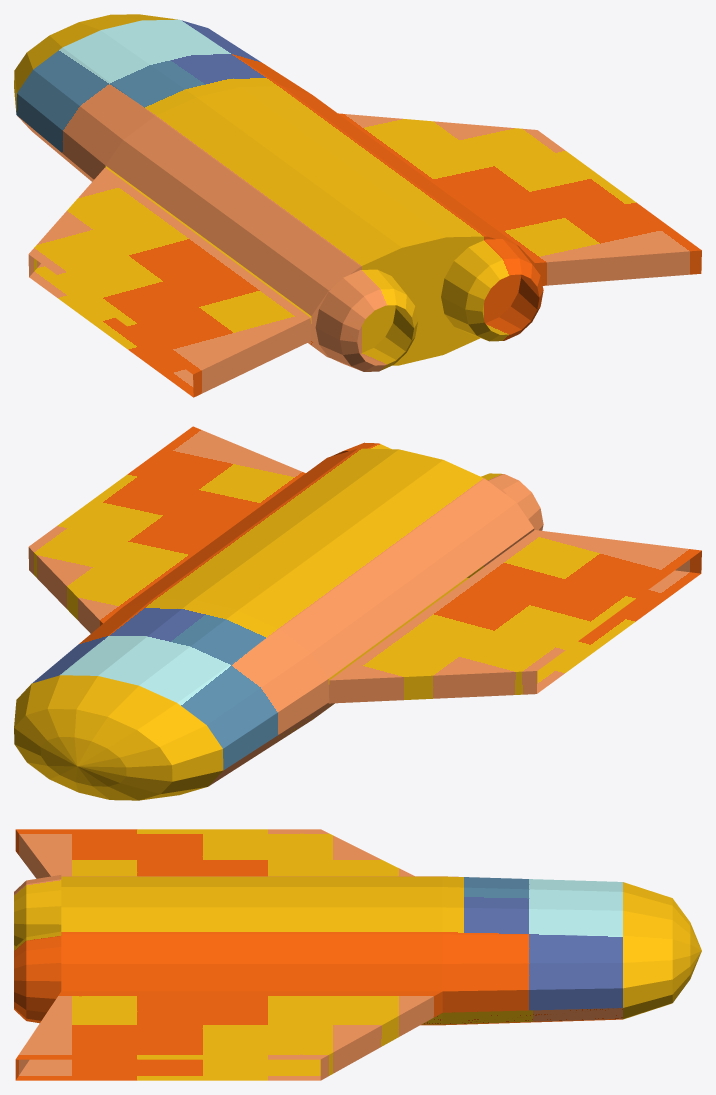
File: ship.obj
3 renders of one model, top to bottom at view 1: azimuth 30°, elevation 25°; view 2: azimuth 150°, elevation 25°; view 3: azimuth 270°, elevation 25°, orthographic. The views are drawn at different scales.
Parts seen in each view (by area): view 1: Cylinder; view 2: Cylinder; view 3: Cylinder.
Part boxes in pixels (x1,y1,x2,y2): Cylinder: (14,14,701,397); Cylinder: (14,426,701,800); Cylinder: (14,829,701,1080).
Bounding box in the file's own units: 3.57 × 0.7866 × 4.51.
